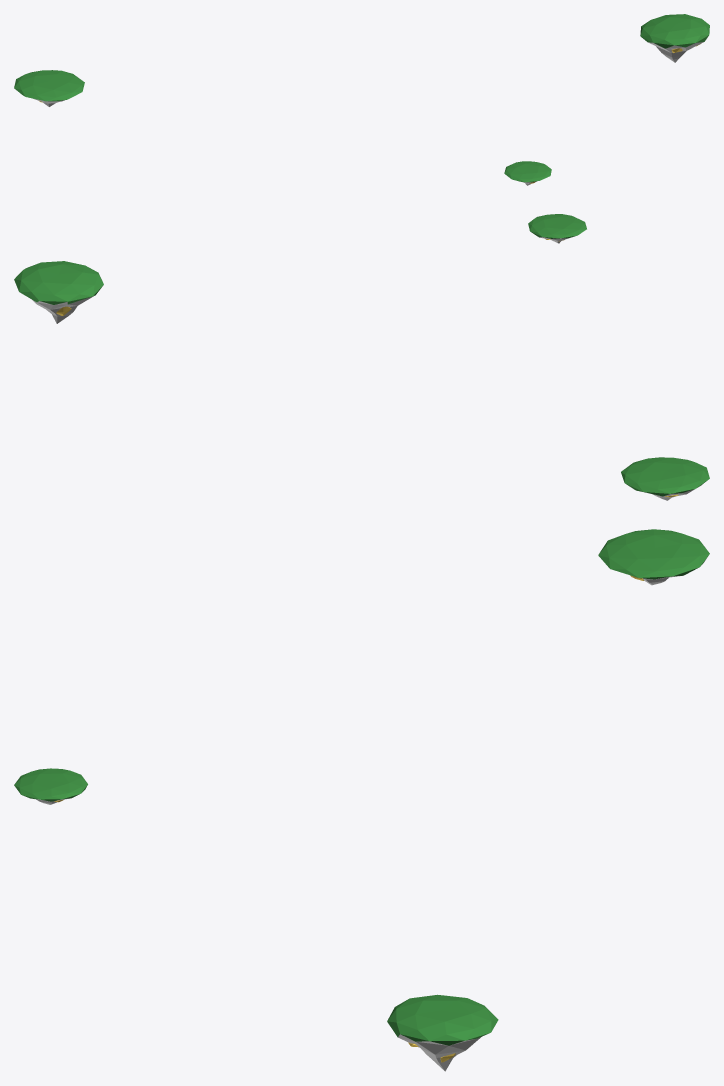
The model's file is 5.landscape.islands.small.fbx.
The picture shows the model from 3 angles, top to bottom: view 1: azimuth 30°, elevation 25°; view 2: azimuth 150°, elevation 25°; view 3: azimuth 270°, elevation 25°; orthographic projection. The views are drawn at different scales.
Visible parts, largest first — view 1: Island, Island_2, Island_3, Stones; view 2: Island, Island_2, Island_3, Stones; view 3: Island, Island_2, Island_3, Stones.
Boxes of the visible parts, x1,y1,x2,y2 form: Island: [640, 14, 709, 48]; Island_2: [14, 70, 84, 101]; Island_3: [504, 161, 551, 182]; Stones: [648, 42, 703, 62]; Island: [14, 261, 103, 304]; Island_2: [621, 457, 709, 496]; Island_3: [528, 214, 586, 238]; Stones: [32, 296, 93, 323]; Island: [387, 994, 498, 1045]; Island_2: [598, 529, 709, 579]; Island_3: [14, 768, 87, 801]; Stones: [398, 1034, 481, 1071].
Size of the model in its own units: 1134 by 119 by 719.
